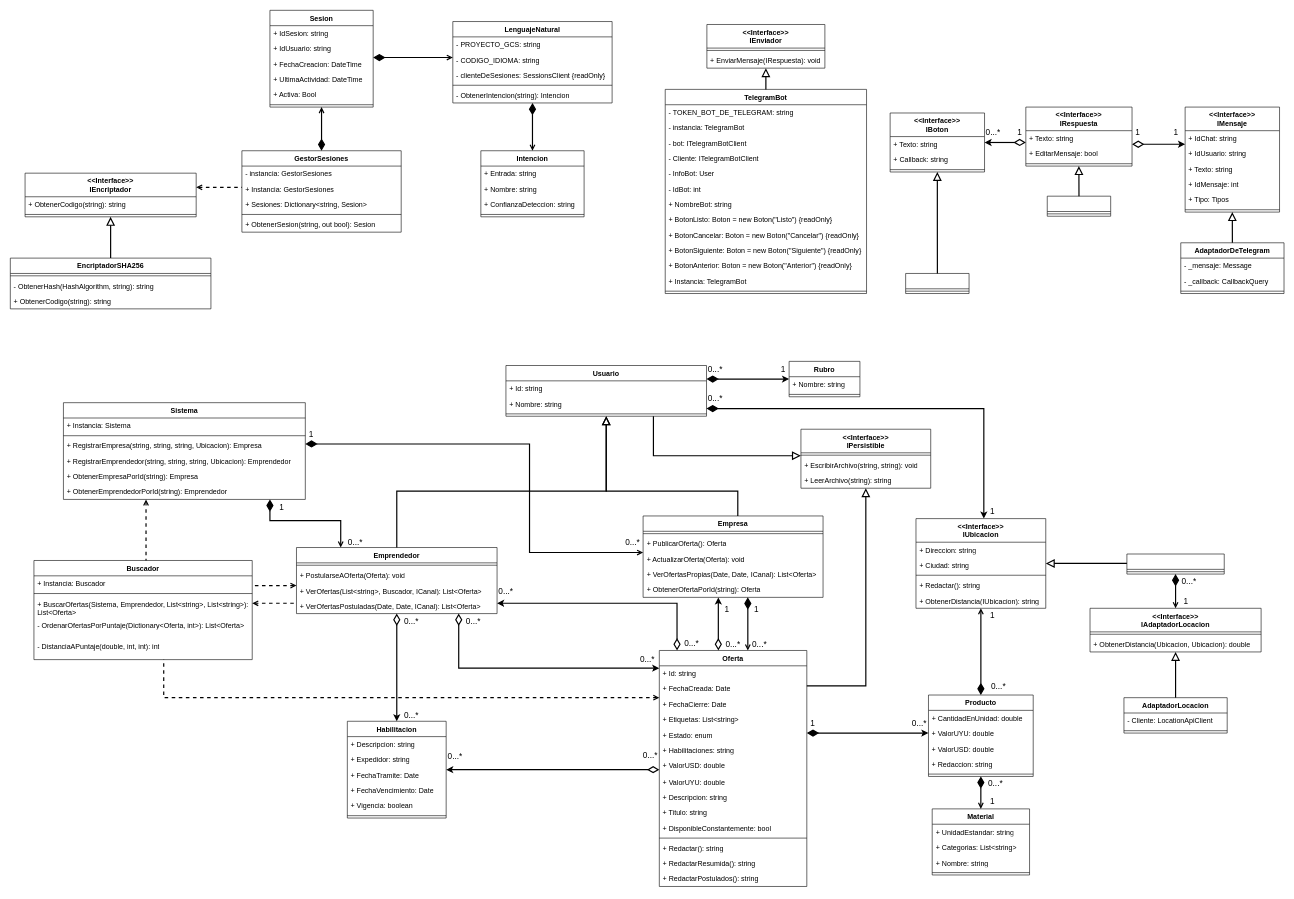
Image size: 1294x899. Some labels were removed from this diagram. The shapes that lost their labels are listed below. From the top down, each one's centre as x and y in pixels, then its label:
At [1079,206]: "Respuesta".
At [937,283]: "Boton".
At [1175,563]: "UbicacionBase".
